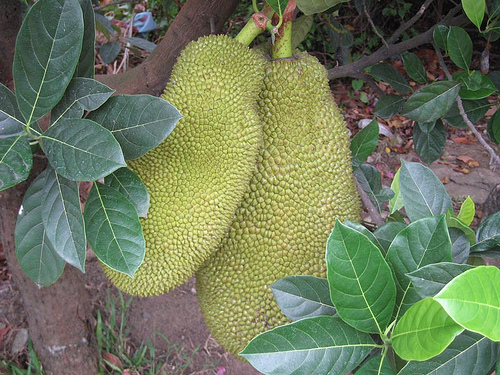jackfruit: (199, 39, 368, 354), (98, 34, 263, 296)
